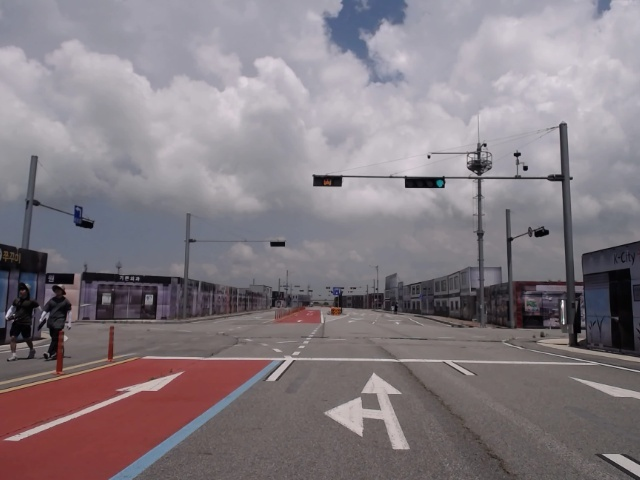straight_green_4: (404, 176, 447, 189)
